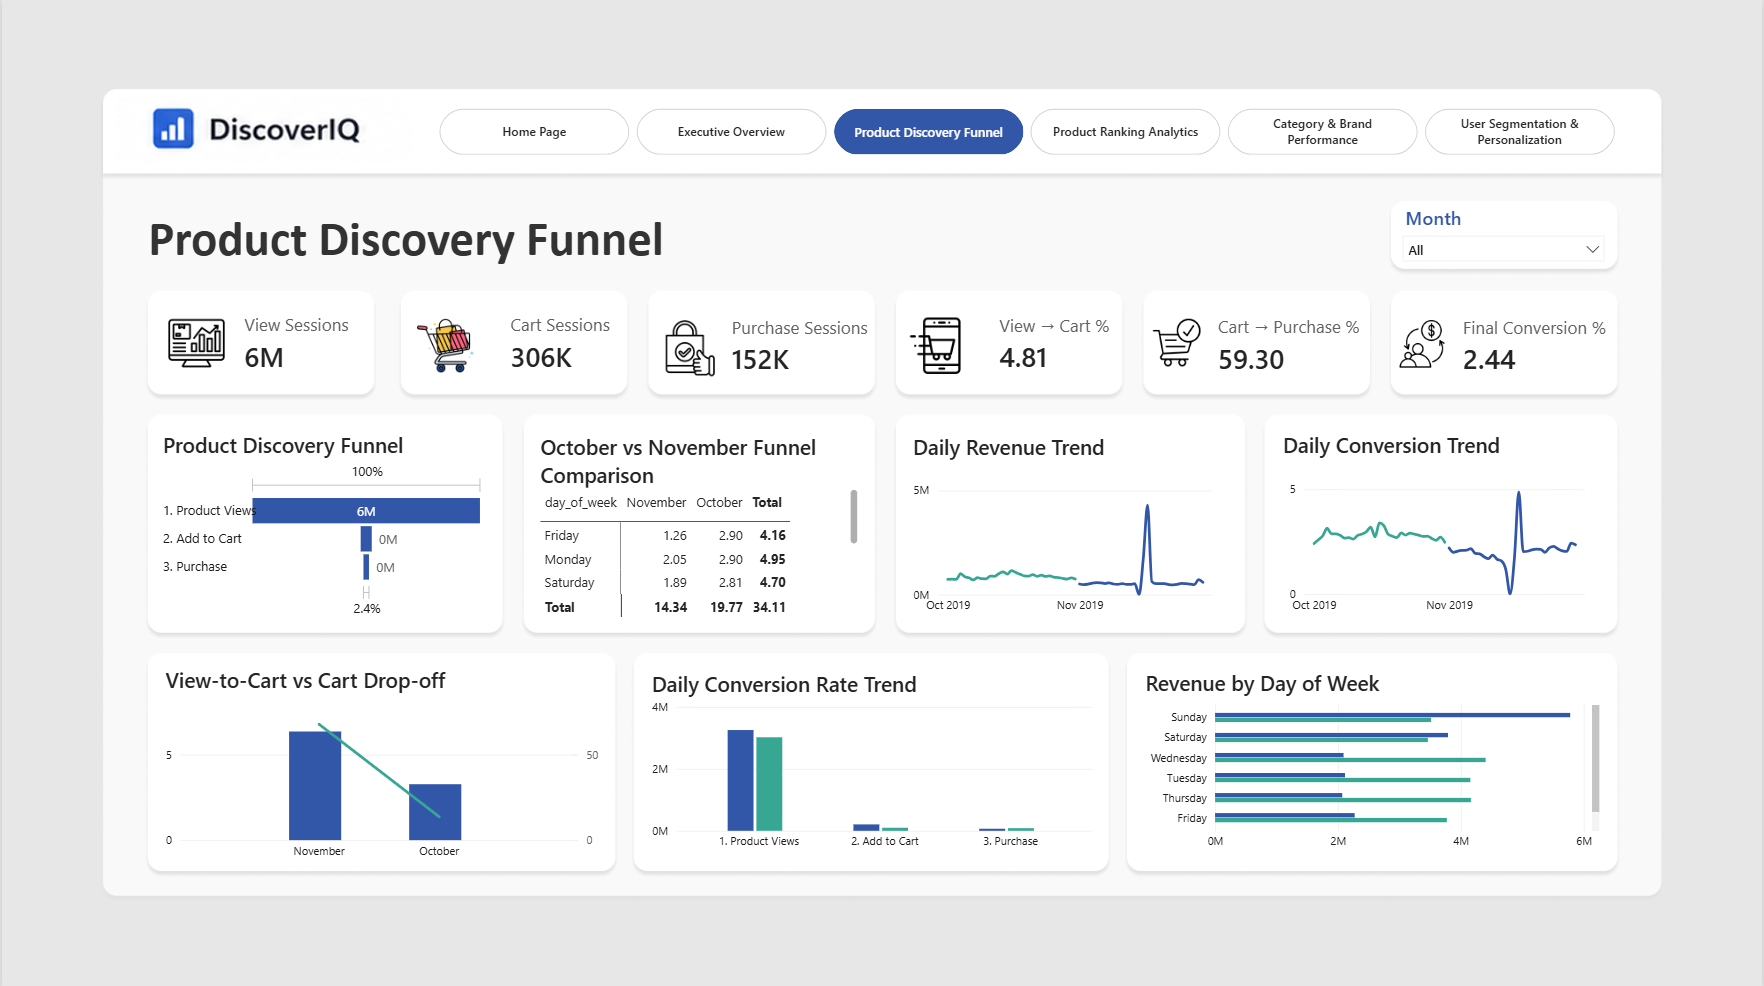

This screenshot's page, from the dashboard's own definition file:
{"tool":"powerbi","page":{"name":"Product Discovery Funnel","canvas":[1920,1080],"ordinal":2},"visuals":[{"type":"slicer","fields":{"Values":["Dim_Month.month"]},"box":[1523.3,224.2,230,68.3],"z":0},{"type":"cardVisual","fields":{"Data":["Sum(bi_funnel_rates.view_sessions)"]},"box":[252.5,329.2,154.2,90],"z":1000},{"type":"cardVisual","fields":{"Data":["Sum(bi_funnel_rates.cart_sessions)"]},"box":[542.5,329.2,141.7,90],"z":2000},{"type":"cardVisual","fields":{"Data":["Sum(bi_funnel_rates.purchase_sessions)"]},"box":[784.2,328.3,179.2,96.7],"z":3000},{"type":"cardVisual","fields":{"Data":["Avg(bi_funnel_rates.view_to_cart_pct)"]},"box":[1075.8,327.5,145.8,96.7],"z":4000},{"type":"cardVisual","fields":{"Data":["Avg(bi_funnel_rates.cart_to_purchase_pct)"]},"box":[1314.2,333.3,180,87.5],"z":5000},{"type":"cardVisual","fields":{"Data":["Avg(bi_funnel_rates.view_to_purchase_pct)"]},"box":[1581.8,330.9,190.9,91.8],"z":6000},{"type":"funnel","title":"Product Discovery Funnel","fields":{"Category":["bi_discovery_funnel.funnel_stage"],"Y":["Sum(bi_discovery_funnel.sessions)"]},"box":[160,455,382.9,234.3],"z":7000},{"type":"clusteredColumnChart","title":"Daily Conversion Rate Trend","fields":{"Category":["bi_discovery_funnel.funnel_stage"],"Y":["Sum(bi_discovery_funnel.sessions)"],"Series":["bi_discovery_funnel.month"]},"box":[692.9,715.7,512.9,231.4],"z":8000},{"type":"lineClusteredColumnComboChart","title":"View-to-Cart vs Cart Drop-off","fields":{"Category":["bi_funnel_rates.month"],"Y":["Avg(bi_funnel_rates.view_to_cart_pct)"],"Y2":["Avg(bi_funnel_rates.cart_to_purchase_dropoff_pct)"]},"box":[162.9,712.1,504.3,245.7],"z":9000},{"type":"lineChart","title":"Daily Revenue Trend","fields":{"Series":["bi_daily_trend.month"],"Y":["Sum(bi_daily_trend.total_revenue)"],"Category":["bi_daily_trend.date"]},"box":[977.9,456.4,374.3,232.9],"z":10000},{"type":"lineChart","title":"Daily Conversion Trend","fields":{"Series":["bi_daily_trend.month"],"Y":["Sum(bi_daily_trend.conversion_rate)"],"Category":["bi_daily_trend.date"]},"box":[1380.7,455.7,377.1,233.6],"z":11000},{"type":"clusteredBarChart","title":"Revenue by Day of Week","fields":{"Category":["bi_day_of_week_performance.day_of_week"],"Y":["Sum(bi_day_of_week_performance.total_revenue)"],"Series":["bi_day_of_week_performance.month"]},"box":[1230.7,715,527.1,232.1],"z":12000},{"type":"pivotTable","title":"October vs November Funnel Comparison","fields":{"Rows":["bi_day_of_week_performance.day_of_week"],"Columns":["bi_day_of_week_performance.month"],"Values":["Sum(bi_day_of_week_performance.conversion_rate)"]},"box":[571.4,456.4,378.6,232.9],"z":13000},{"type":"textbox","box":[160,228,610,88],"z":14000},{"type":"image","box":[171.7,343.3,80.8,61.7],"z":15000},{"type":"image","box":[443.3,345.8,80.8,61.7],"z":16000},{"type":"image","box":[710.6,349.4,80.6,61.2],"z":17000},{"type":"image","box":[1249.2,348.3,65,51.7],"z":18000},{"type":"image","box":[978.2,346.4,80.9,61.8],"z":19000},{"type":"image","box":[1516.4,349.1,65.5,51.8],"z":20000},{"type":"pageNavigator","box":[476.7,118.3,1285,50],"z":21000}]}

Visuals, with their boxes in screenshot pixels (x1, y1, x2, y2), scaled from the page's 1920x1080 canvas onto the 1764x986 screenshot:
slicer - Dim_Month.month: left=1400, top=205, right=1611, bottom=267
cardVisual - Sum(bi_funnel_rates.view_sessions): left=232, top=301, right=374, bottom=383
cardVisual - Sum(bi_funnel_rates.cart_sessions): left=498, top=301, right=629, bottom=383
cardVisual - Sum(bi_funnel_rates.purchase_sessions): left=720, top=300, right=885, bottom=388
cardVisual - Avg(bi_funnel_rates.view_to_cart_pct): left=988, top=299, right=1122, bottom=387
cardVisual - Avg(bi_funnel_rates.cart_to_purchase_pct): left=1207, top=304, right=1373, bottom=384
cardVisual - Avg(bi_funnel_rates.view_to_purchase_pct): left=1453, top=302, right=1629, bottom=386
"Product Discovery Funnel" funnel: left=147, top=415, right=499, bottom=629
"Daily Conversion Rate Trend" clusteredColumnChart: left=637, top=653, right=1108, bottom=865
"View-to-Cart vs Cart Drop-off" lineClusteredColumnComboChart: left=150, top=650, right=613, bottom=874
"Daily Revenue Trend" lineChart: left=898, top=417, right=1242, bottom=629
"Daily Conversion Trend" lineChart: left=1269, top=416, right=1615, bottom=629
"Revenue by Day of Week" clusteredBarChart: left=1131, top=653, right=1615, bottom=865
"October vs November Funnel Comparison" pivotTable: left=525, top=417, right=873, bottom=629
textbox: left=147, top=208, right=707, bottom=288
image: left=158, top=313, right=232, bottom=370
image: left=407, top=316, right=482, bottom=372
image: left=653, top=319, right=727, bottom=375
image: left=1148, top=318, right=1207, bottom=365
image: left=899, top=316, right=973, bottom=373
image: left=1393, top=319, right=1453, bottom=366
pageNavigator: left=438, top=108, right=1619, bottom=154
